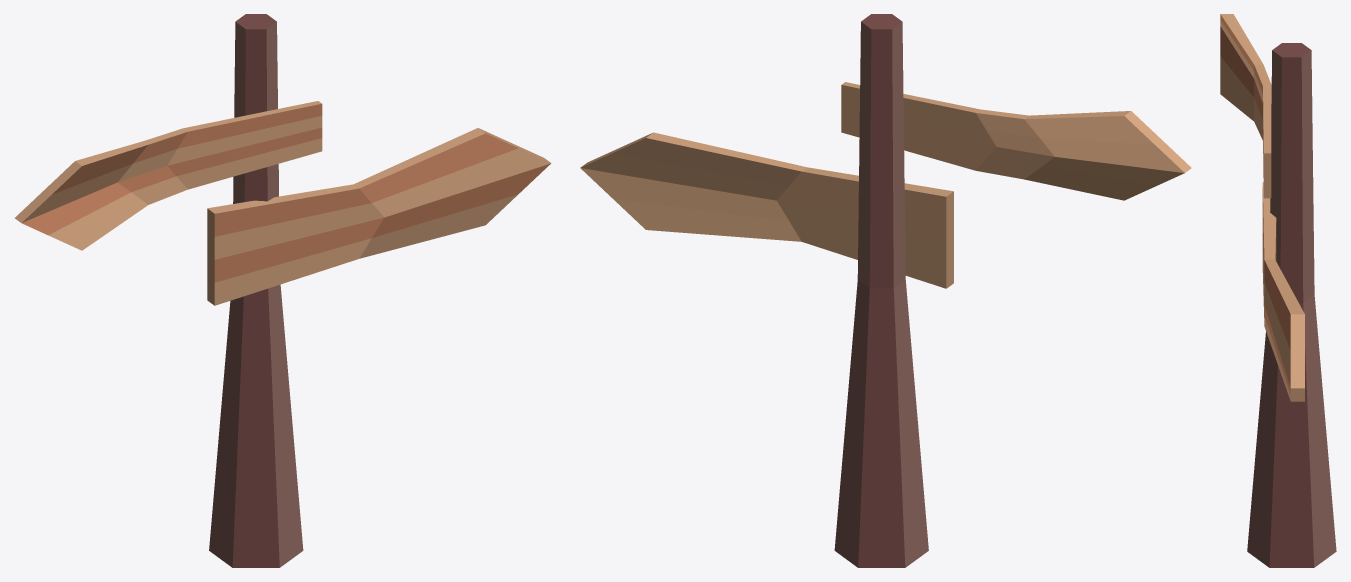
The model's file is placa.fbx.
3 views of the same model, side by side, from view 1: azimuth 30°, elevation 25°; view 2: azimuth 150°, elevation 25°; view 3: azimuth 270°, elevation 25° (orthographic). The views are drawn at different scales.
Visible parts, largest first — view 1: Cylinder; view 2: Cylinder; view 3: Cylinder.
Boxes of the visible parts, x1,y1,x2,y2 form: Cylinder: (14, 14, 551, 567); Cylinder: (580, 14, 1191, 567); Cylinder: (1220, 14, 1336, 567).
Bounding box in the file's own units: 669 × 597 × 125.
